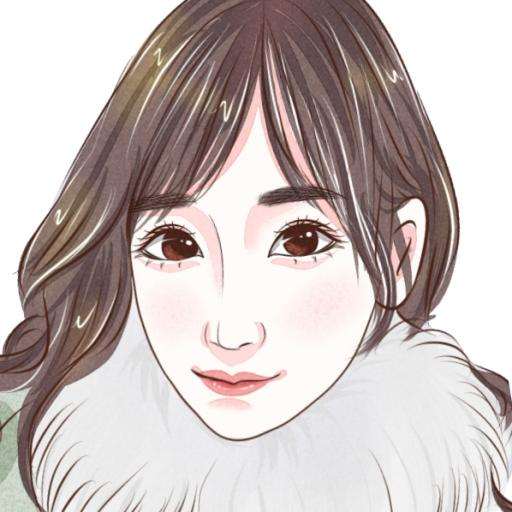NoHuman: (0, 0, 512, 502)
